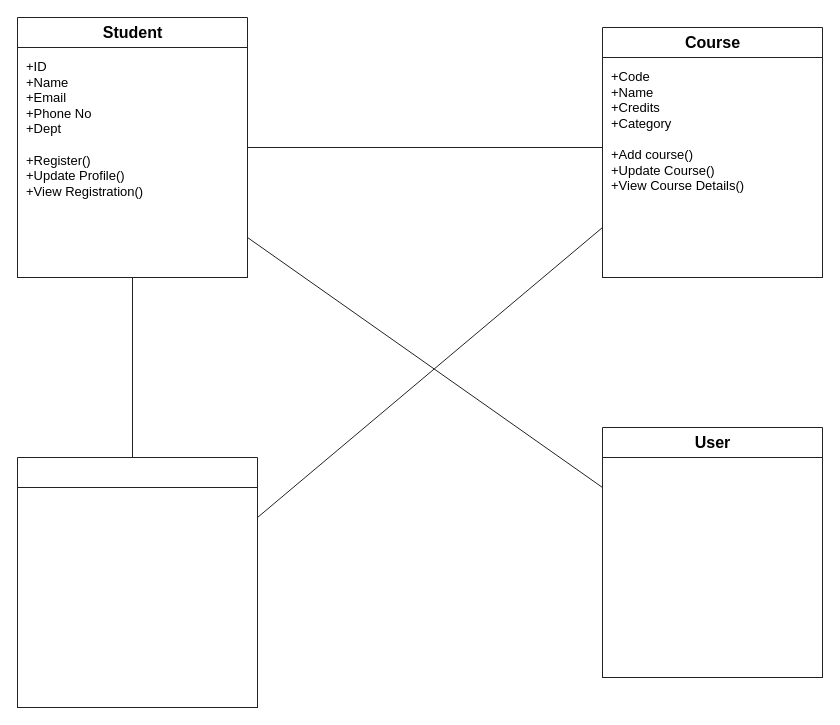
Some shapes in this 840 by 725 pixel diagram are drawn without their labels. Here are the shapes that lost their labels. From the top down, the centre of each, then its label:
At (137,472): "Registration".
At (712,567): "+ID +User Name +Password +Login() +Logout() +Change Password()".
At (137,597): "+ID +Date +Sem +Status +Grade +Create() +Update() +Get Registration Details()".
